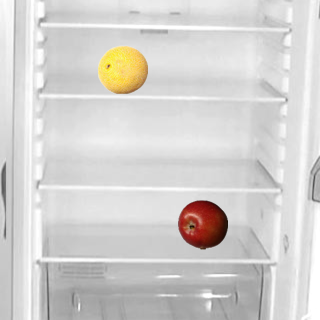Apple Braeburn: (177, 199, 227, 249)
Cantaloupe 1: (97, 44, 147, 94)
